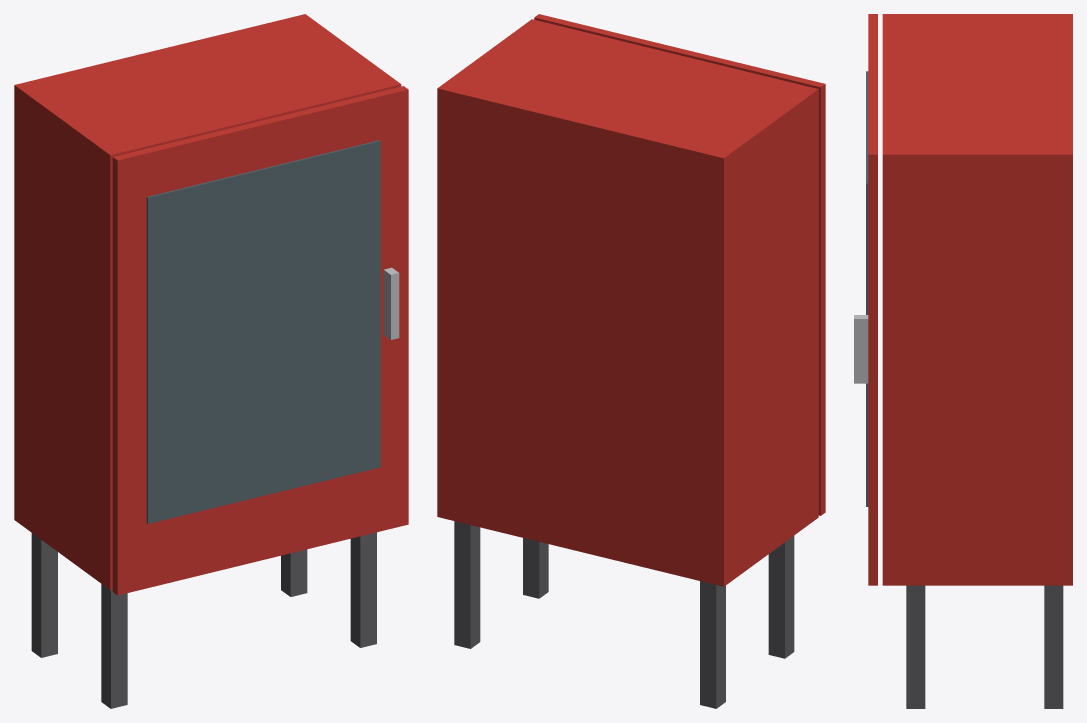
Rendered from SM_SCBACabinet.fbx.
3 views of the same model, side by side, from view 1: azimuth 30°, elevation 25°; view 2: azimuth 150°, elevation 25°; view 3: azimuth 270°, elevation 25° (orthographic).
Visible parts, largest first — view 1: SCBA_Door, SCBA_Cabinet; view 2: SCBA_Cabinet, SCBA_Door; view 3: SCBA_Cabinet, SCBA_Door.
Part boxes in pixels (<box>): SCBA_Door: <box>112,86,408,595</box>; SCBA_Cabinet: <box>14,14,401,708</box>; SCBA_Cabinet: <box>437,19,818,708</box>; SCBA_Door: <box>534,14,825,515</box>; SCBA_Cabinet: <box>882,14,1072,708</box>; SCBA_Door: <box>854,14,877,585</box>.
Bounding box in the file's own units: 70 × 130 × 46.
